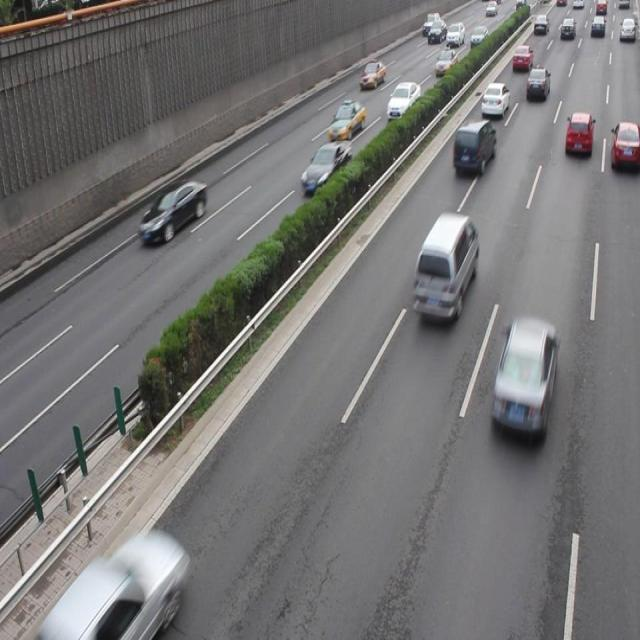car: (489, 316, 558, 444), (140, 180, 207, 244), (301, 139, 351, 195), (452, 118, 496, 176), (609, 122, 640, 174), (328, 99, 365, 140), (564, 110, 592, 160)
truck: (413, 211, 477, 321)
